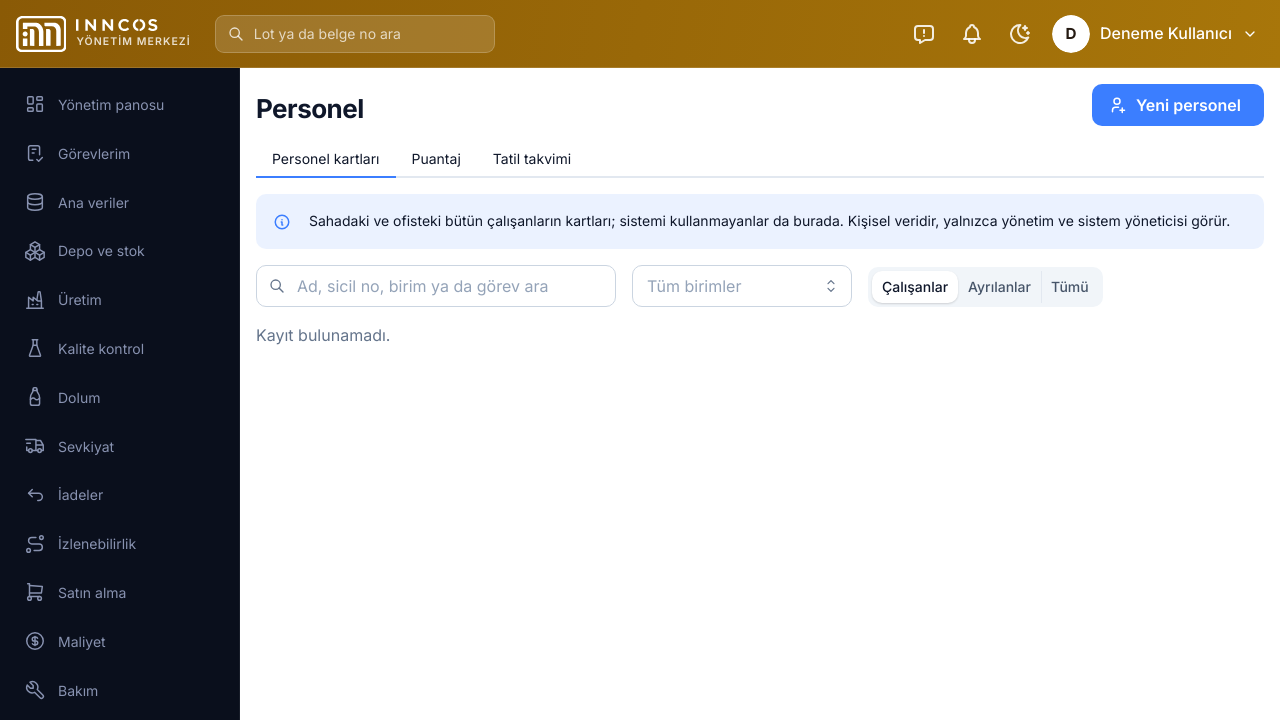
puantaj tablosu › personel sekmelerinden puantaja geçilir; diğer roller açamaz
Click the tab "Puantaj" at (436, 160), box [396,142,477,178]
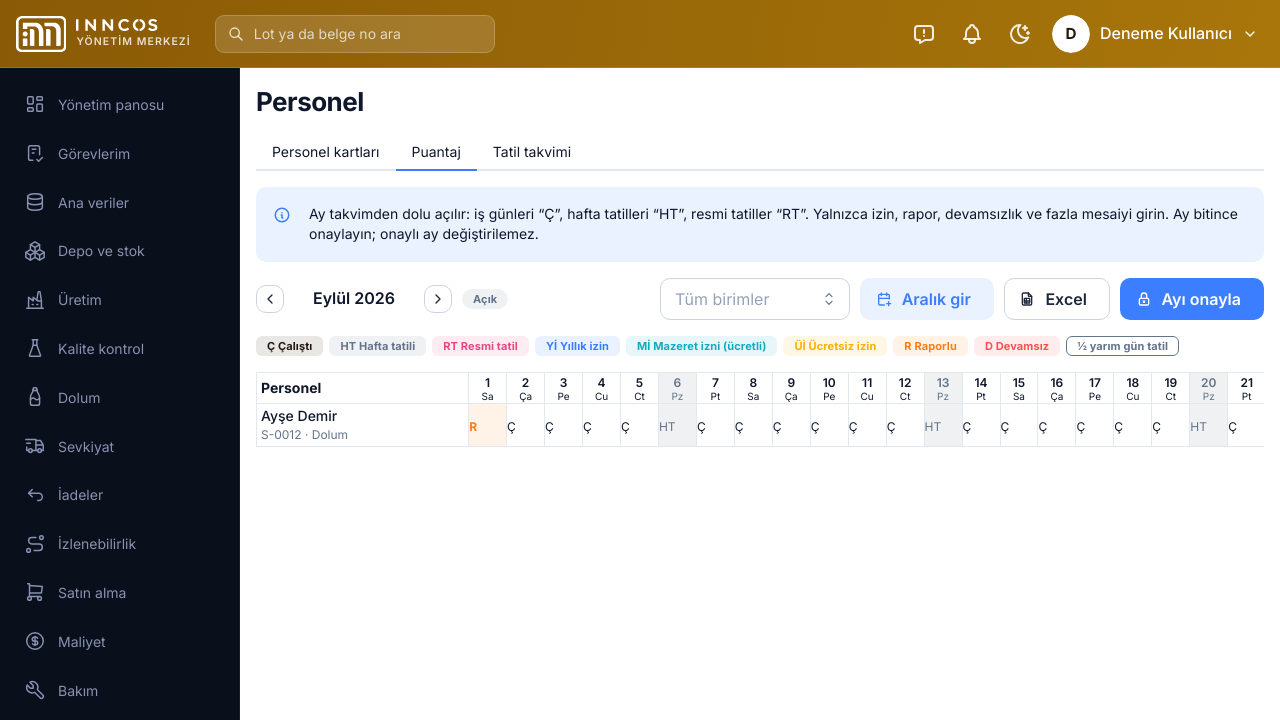
Expected: the table with test id "attendance" is shown, [256,372,1264,447]
